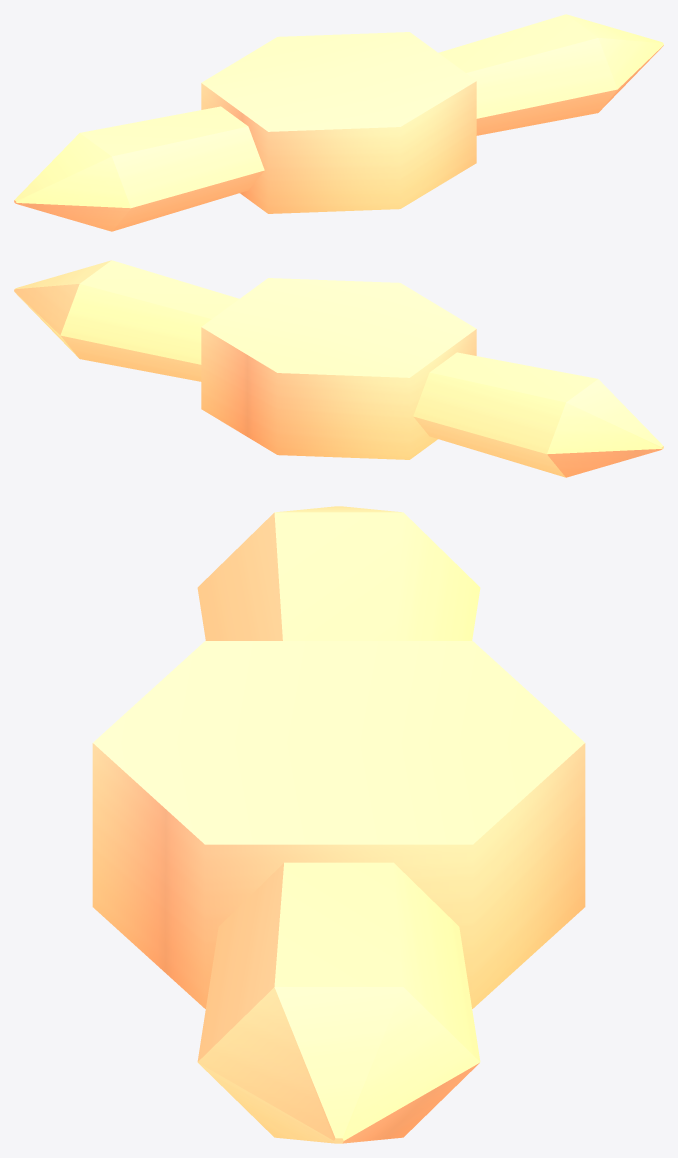
Rendered from wood_guard_074_004.glb.
The picture shows the model from 3 angles, top to bottom: view 1: azimuth 30°, elevation 25°; view 2: azimuth 150°, elevation 25°; view 3: azimuth 270°, elevation 25°; orthographic projection. The views are drawn at different scales.
Parts seen in each view (by area): view 1: wood_guard_074.004; view 2: wood_guard_074.004; view 3: wood_guard_074.004.
Part boxes in pixels (x1,y1,x2,y2): wood_guard_074.004: (14,14,663,231); wood_guard_074.004: (14,260,663,477); wood_guard_074.004: (92,506,585,1143).
Bounding box in the file's own units: 9.73 × 1.18 × 3.21.
1 material, 1 textured.
